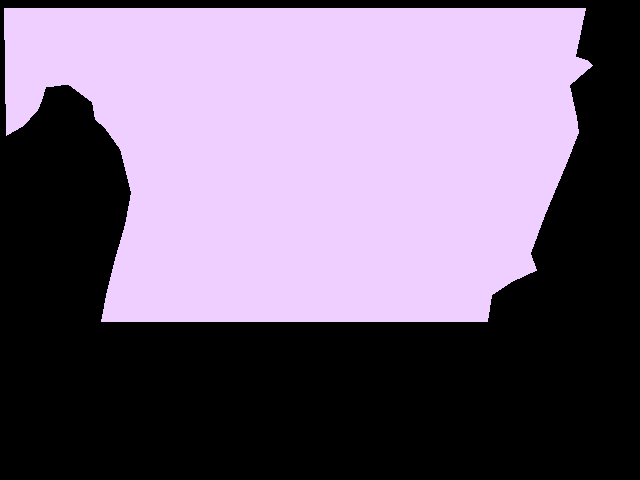Train: (4, 8, 592, 321)
